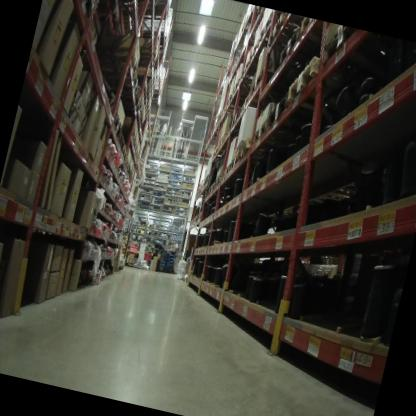pallet: (280, 49, 365, 130), (241, 57, 305, 110), (275, 26, 331, 85), (317, 25, 376, 80), (86, 38, 144, 78), (236, 135, 293, 172), (250, 117, 300, 158), (265, 12, 307, 56), (97, 63, 145, 97), (298, 18, 344, 49), (248, 39, 289, 71), (114, 86, 146, 116), (134, 0, 174, 24), (142, 27, 170, 56), (223, 103, 245, 138), (259, 11, 279, 43), (229, 77, 255, 101), (133, 49, 160, 71), (64, 0, 97, 17), (101, 114, 124, 138), (100, 8, 122, 31), (114, 136, 131, 162), (240, 94, 259, 116), (123, 123, 139, 143), (114, 128, 128, 150), (219, 163, 232, 185), (120, 153, 133, 173), (150, 91, 163, 108), (229, 155, 240, 175), (205, 180, 216, 200), (213, 176, 222, 194), (195, 210, 205, 226), (202, 174, 211, 187)
